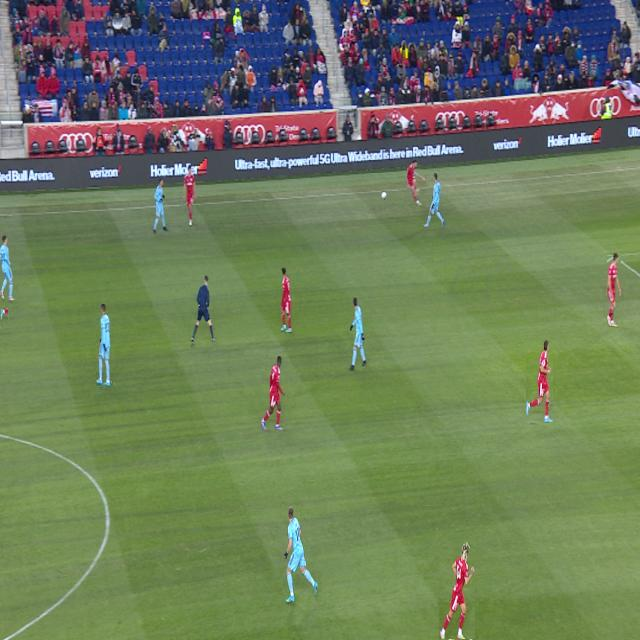football: (381, 192, 387, 201)
player: (439, 543, 475, 639), (284, 507, 318, 604), (526, 341, 553, 423), (261, 356, 285, 430), (350, 298, 367, 371), (423, 173, 445, 228), (97, 305, 111, 386), (607, 253, 621, 327), (0, 236, 15, 301), (407, 160, 426, 206), (153, 179, 168, 235), (184, 165, 197, 226), (281, 268, 292, 332), (0, 309, 8, 320)
referee: (191, 276, 216, 343)
